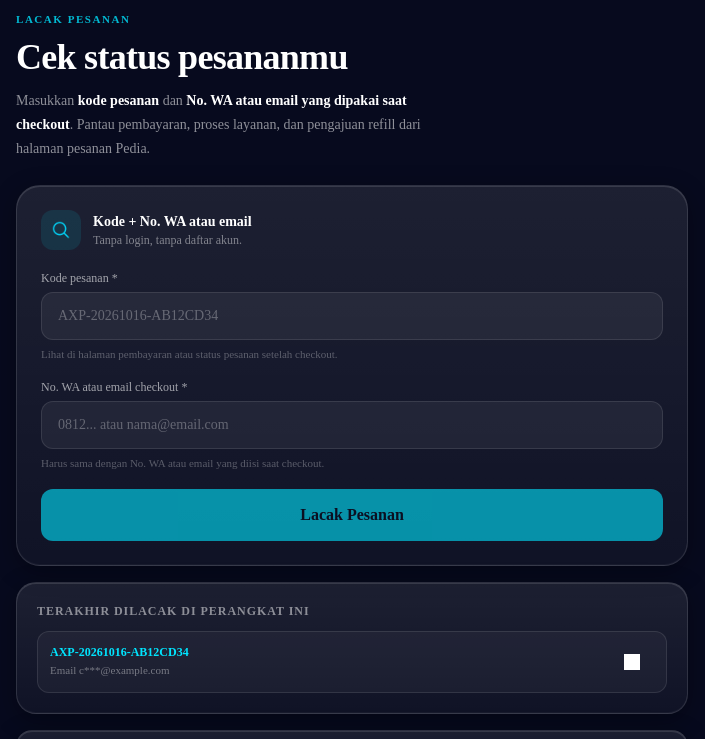
Test case: Pedia tracking › filters invalid history and masks contacts, with removable recent entries
Expected: the text "Email c***@example.com" is shown, [50,664,170,676]
Click the button named "Hapus riwayat AXP-20261016-AB12CD34".
click(632, 662)  # box [610,640,654,684]
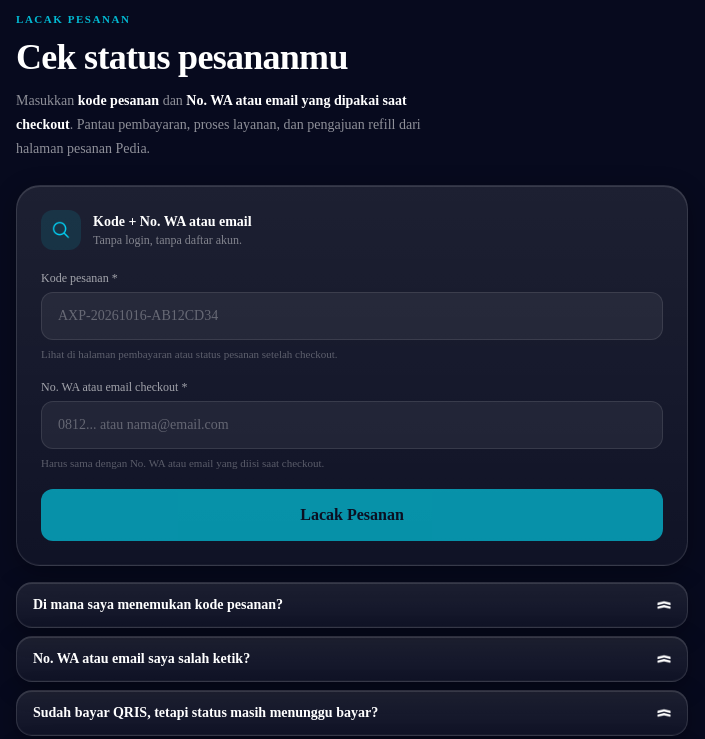
Now the heading "Terakhir dilacak" is gone
